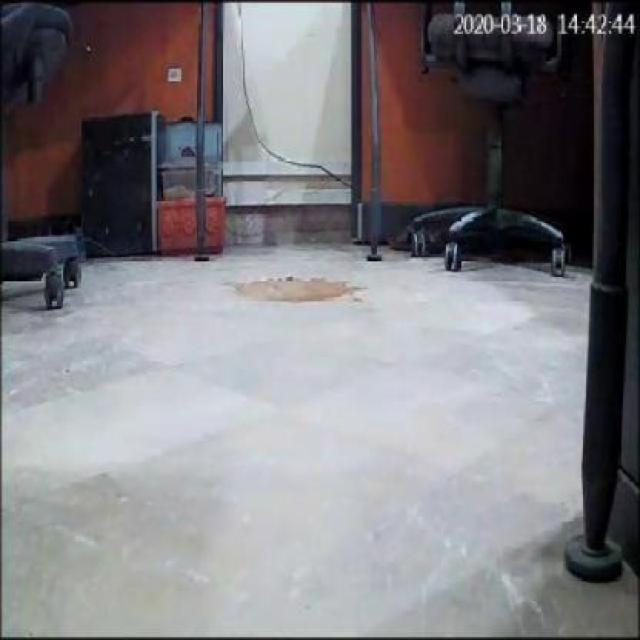spillage: (233, 276, 352, 305)
